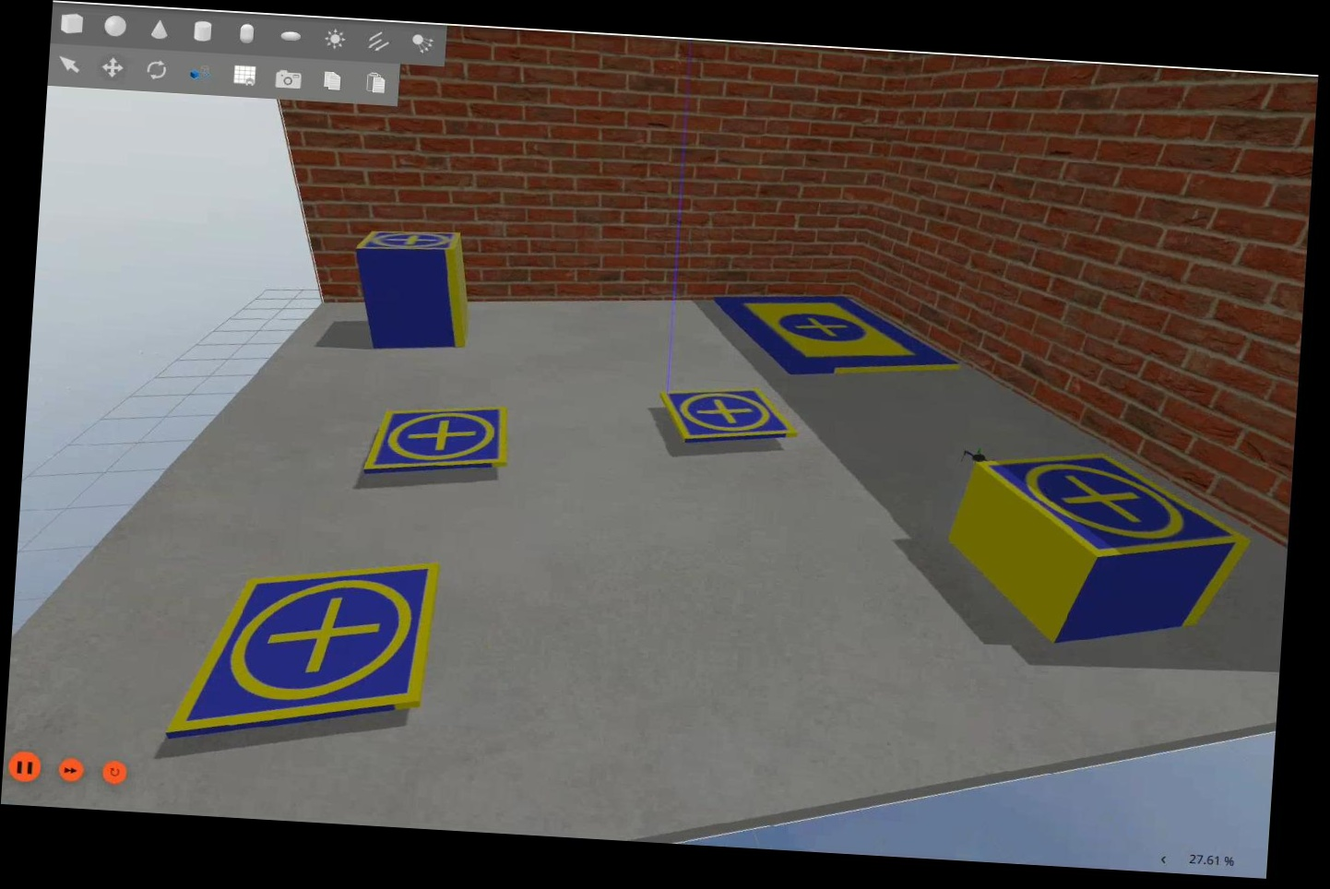large_base: (704, 286, 967, 383)
small_base: (169, 548, 434, 752), (966, 445, 1261, 565), (364, 398, 515, 480), (658, 385, 806, 453), (358, 224, 459, 259)
